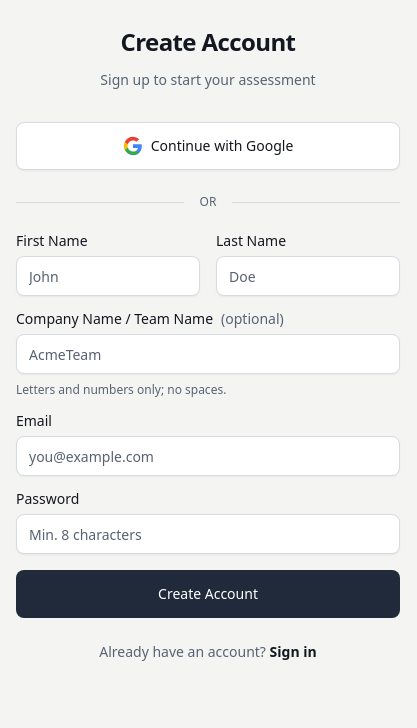
signup page recovery › restores the submit button after offline
In the field with placeholder "John": [108, 276] box left=16, top=256, right=200, bottom=296, type "QA"
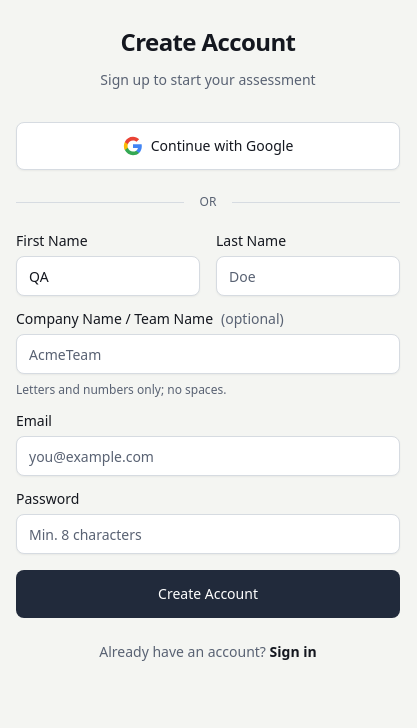
In the field with placeholder "Doe": [308, 276] box left=216, top=256, right=400, bottom=296, type "Tester"
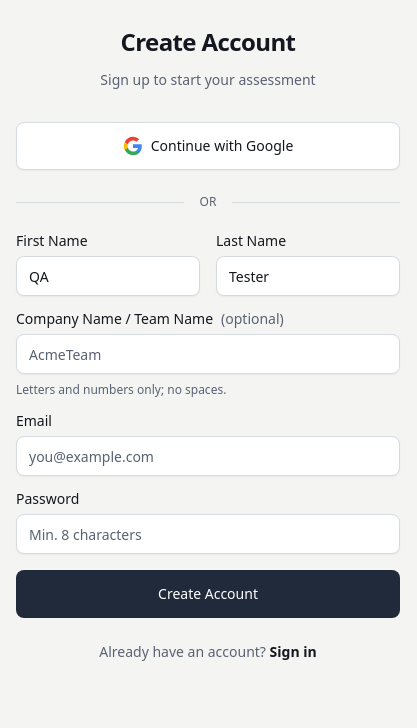
In the field with placeholder "you@example.com": [208, 456] box left=16, top=436, right=400, bottom=476, type "qa@example.com"
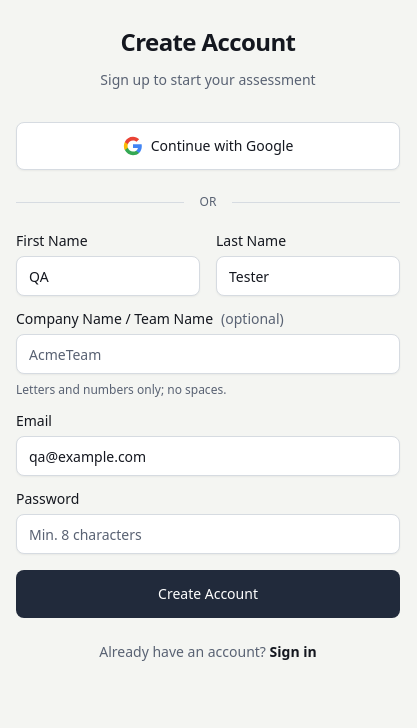
In the password field with placeholder "Min. 8 characters": [208, 534] box left=16, top=514, right=400, bottom=554, type "test-password-only"
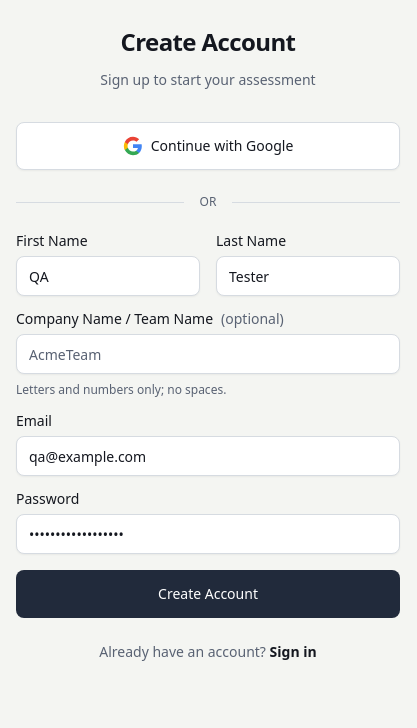
Click the button "Create Account": [208, 594] box left=16, top=570, right=400, bottom=618
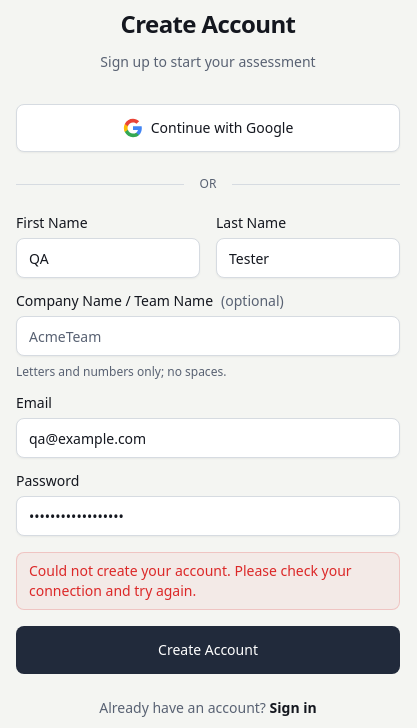
Check: the button "Create Account" is enabled, box left=16, top=626, right=400, bottom=674
Check: the message shows "try again", box left=29, top=561, right=352, bottom=600
